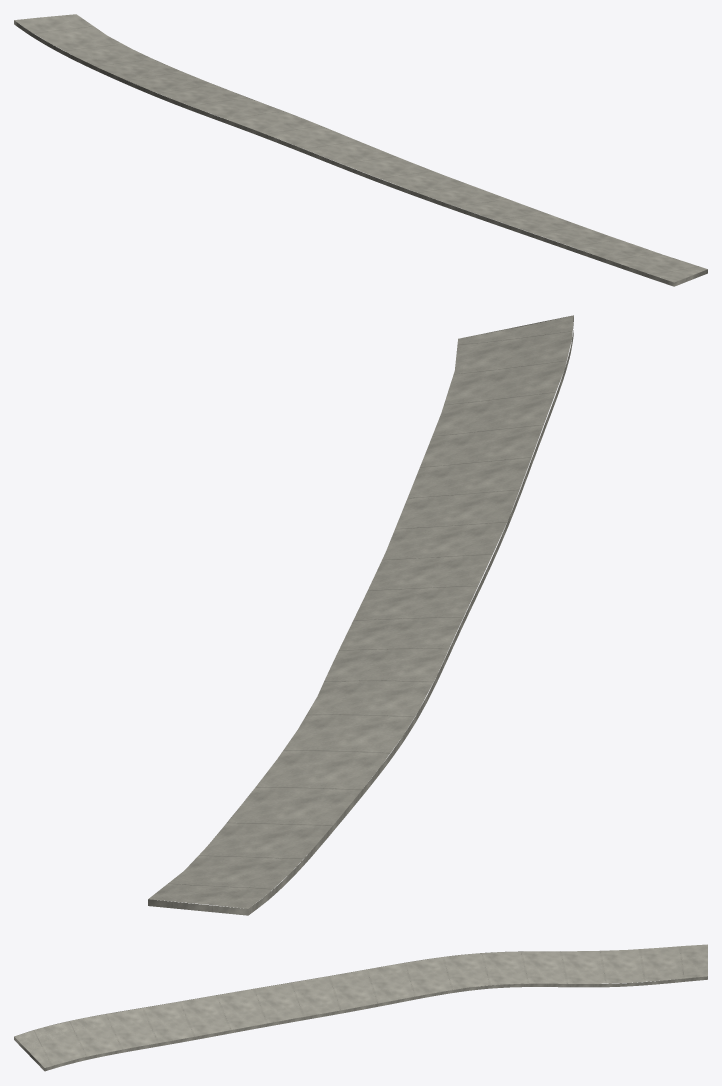
File: sidewalk_03.gltf
3 renders of one model, top to bottom at view 1: azimuth 30°, elevation 25°; view 2: azimuth 150°, elevation 25°; view 3: azimuth 270°, elevation 25°, orthographic. The views are drawn at different scales.
Visible parts, largest first — view 1: sidewalk_03.surface, sidewalk_03.sides; view 2: sidewalk_03.surface, sidewalk_03.sides; view 3: sidewalk_03.surface, sidewalk_03.sides.
Part boxes in pixels (box(x1,y1,x2,y2)): sidewalk_03.surface: box(14, 14, 707, 282); sidewalk_03.sides: box(14, 20, 707, 286); sidewalk_03.surface: box(148, 315, 573, 908); sidewalk_03.sides: box(148, 316, 573, 915); sidewalk_03.surface: box(14, 944, 707, 1067); sidewalk_03.sides: box(14, 951, 707, 1071).
Bounding box in the file's own units: 11.29 × 1.11 × 29.93.
1 material, 1 textured.
